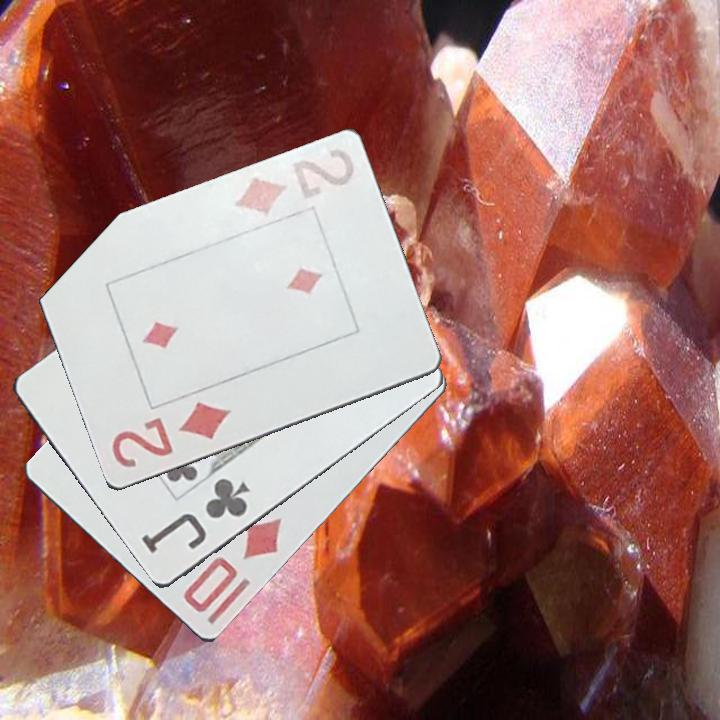2d: (230, 141, 357, 221), (108, 399, 234, 473)
Jc: (137, 474, 254, 558)
Td: (179, 515, 287, 617)
